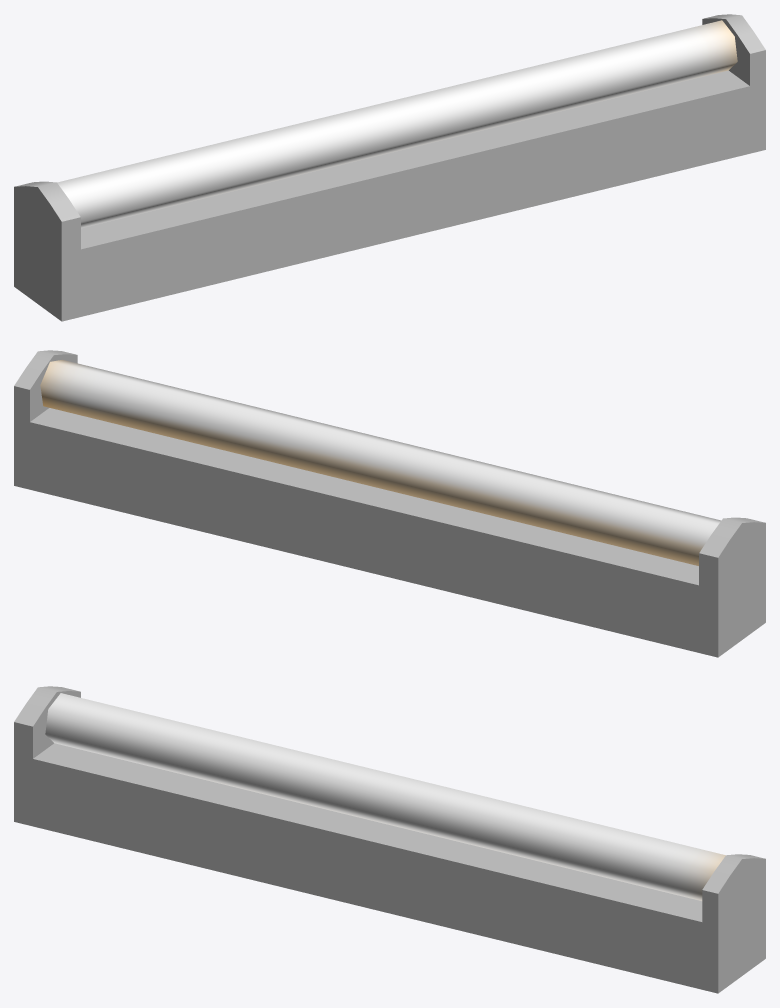
The model's file is Celling Light.FBX.
3 renders of one model, top to bottom at view 1: azimuth 30°, elevation 25°; view 2: azimuth 150°, elevation 25°; view 3: azimuth 330°, elevation 25°, orthographic.
Visible parts, largest first — view 1: Box001, Cylinder001; view 2: Box001, Cylinder001; view 3: Box001, Cylinder001.
Part boxes in pixels (bbox=[...]): Box001: bbox=[14, 14, 765, 321]; Cylinder001: bbox=[57, 20, 737, 228]; Box001: bbox=[14, 350, 765, 657]; Cylinder001: bbox=[40, 359, 721, 565]; Box001: bbox=[14, 686, 765, 993]; Cylinder001: bbox=[45, 693, 725, 900].
Bounding box in the file's own units: 66.59 × 10.58 × 7.83.
